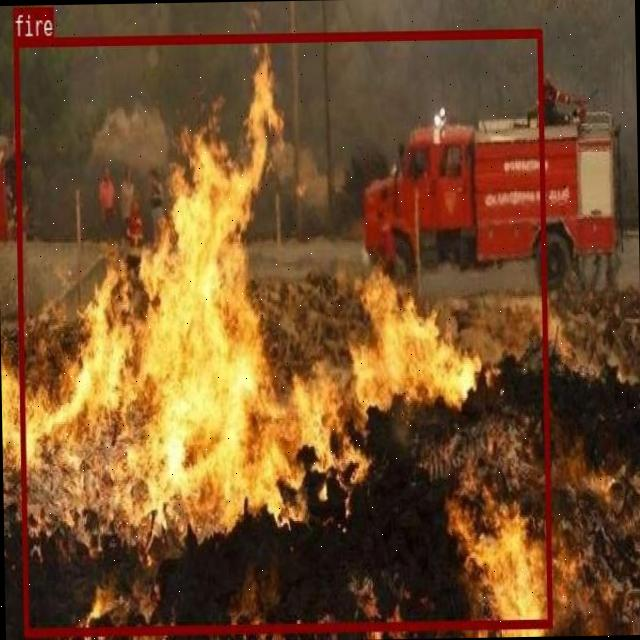fire: (12, 27, 551, 634)
